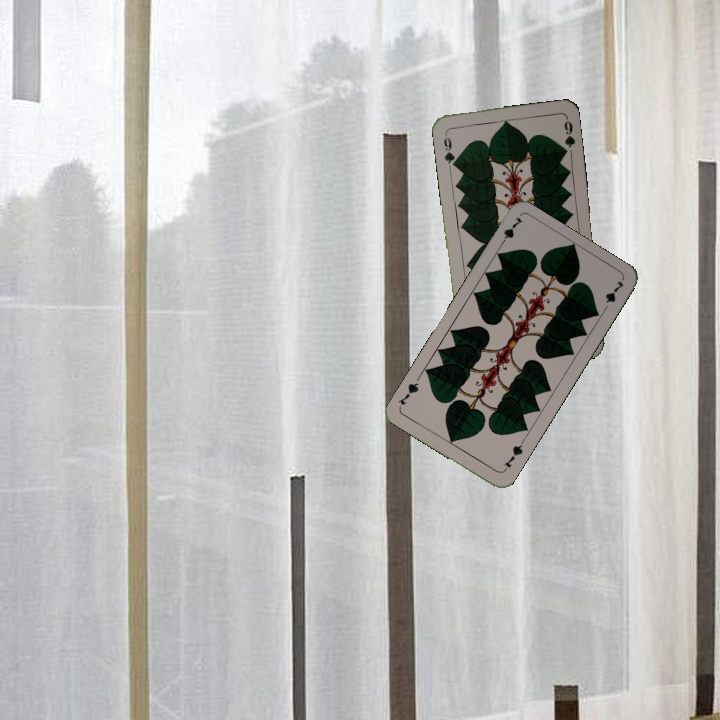G7: (495, 213, 526, 250), (499, 437, 526, 474)
G9: (439, 128, 458, 168)
